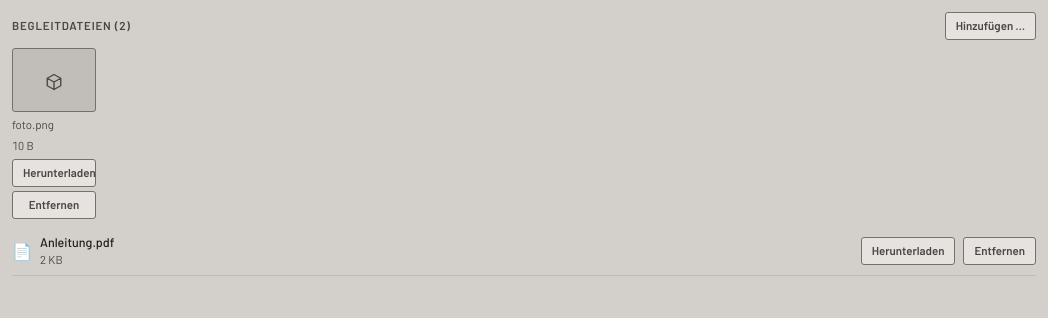
Scenario: CompanionWebSection › removing and restoring single files › removes without asking, offers undo, and undo restores the same file
Click the button with aria-label "„Anleitung.pdf“ entfernen": (1000, 250) [964,236,1036,264]
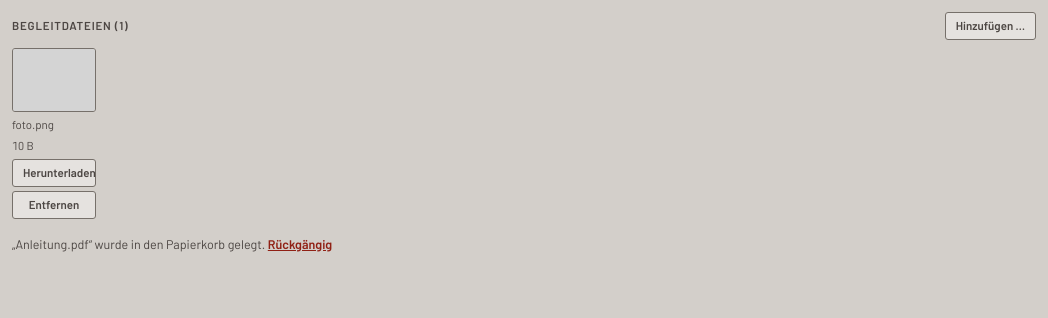
Expected: the text "„Anleitung.pdf“ wurde in den Papierkorb gelegt. Rückgängig" is shown, [12,234,332,253]
Click the button "Rückgängig": (300, 244) [268,234,332,253]
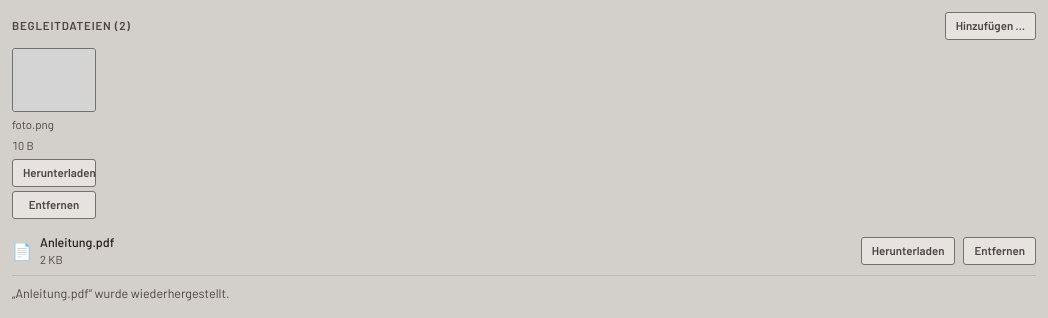
Expected: the text "„Anleitung.pdf“ wurde wiederhergestellt." is shown, [12,284,229,300]
Expected: the button "Rückgängig" is gone
